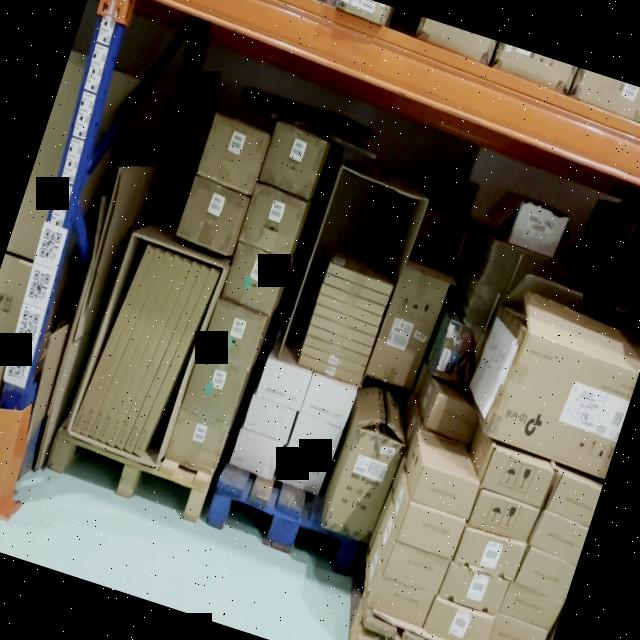box: (491, 333, 640, 477), (123, 266, 210, 454), (115, 262, 200, 450), (97, 255, 182, 443), (89, 252, 174, 440), (134, 269, 219, 456), (106, 260, 191, 447), (80, 249, 164, 436), (71, 246, 155, 433), (372, 262, 448, 388), (325, 426, 402, 543), (197, 114, 269, 192), (258, 124, 328, 200), (177, 181, 249, 251), (182, 356, 247, 426), (240, 188, 306, 256), (222, 244, 287, 313), (202, 304, 266, 368), (164, 414, 229, 474), (483, 452, 552, 508), (397, 502, 465, 558), (439, 562, 509, 615), (412, 464, 478, 518), (469, 493, 538, 543), (383, 542, 449, 594), (529, 510, 589, 566), (457, 529, 524, 577), (516, 548, 576, 600), (499, 583, 564, 631), (511, 200, 567, 254), (370, 578, 432, 626), (300, 375, 356, 428), (228, 429, 284, 481), (425, 599, 493, 640), (547, 477, 601, 526), (243, 397, 297, 443), (257, 362, 311, 408), (277, 448, 328, 495), (289, 416, 342, 459), (429, 394, 478, 440), (312, 306, 380, 338), (320, 284, 386, 316), (324, 274, 389, 306), (306, 326, 372, 357), (328, 264, 393, 294), (300, 346, 365, 376), (318, 296, 383, 323), (310, 317, 376, 343), (304, 338, 368, 364), (299, 358, 362, 382), (488, 615, 547, 640)
